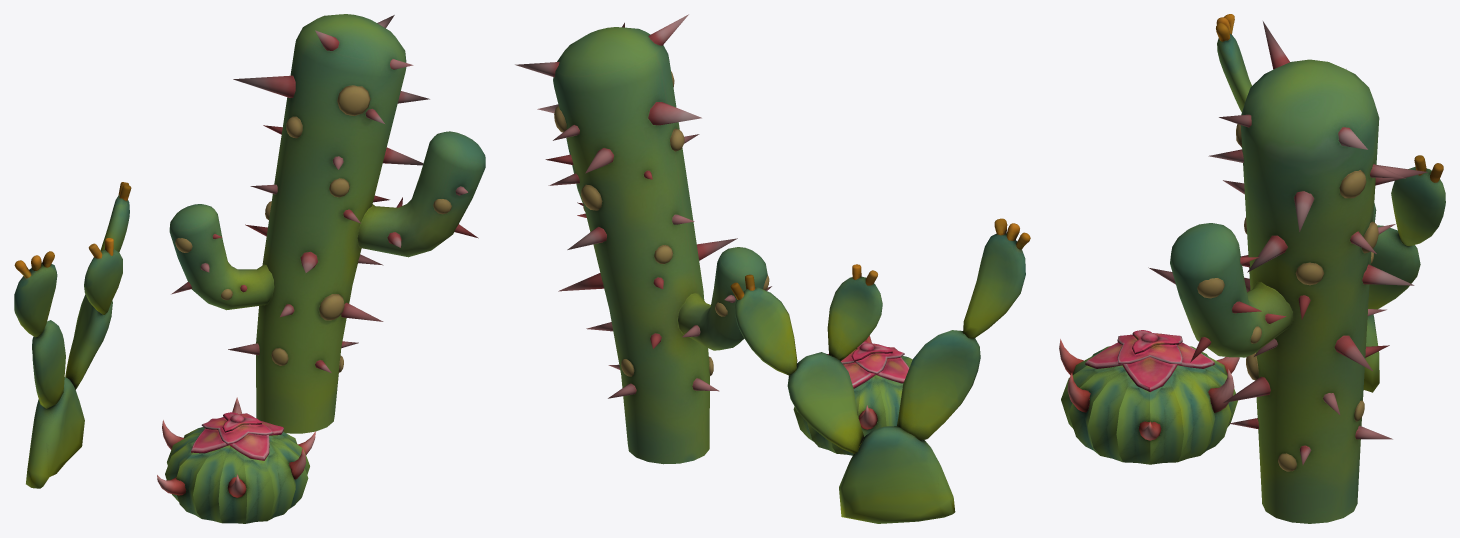
Rendered from Cactas 2.fbx.
3 views of the same model, side by side, from view 1: azimuth 30°, elevation 25°; view 2: azimuth 150°, elevation 25°; view 3: azimuth 270°, elevation 25° (orthographic). The views are drawn at different scales.
Parts seen in each view (by area): view 1: Sphere001, Group32591, Sphere002; view 2: Sphere001, Group32591, Sphere002; view 3: Sphere001, Sphere002, Group32591.
Part boxes in pixels (x1,y1,x2,y2): Sphere001: [169, 14, 485, 433]; Group32591: [14, 182, 131, 488]; Sphere002: [157, 397, 315, 523]; Sphere001: [515, 14, 771, 464]; Group32591: [730, 218, 1030, 523]; Sphere002: [793, 335, 912, 455]; Sphere001: [1148, 21, 1427, 523]; Sphere002: [1059, 330, 1239, 464]; Group32591: [1216, 14, 1445, 392].
Size of the model in its own units: 200 by 170 by 122.
